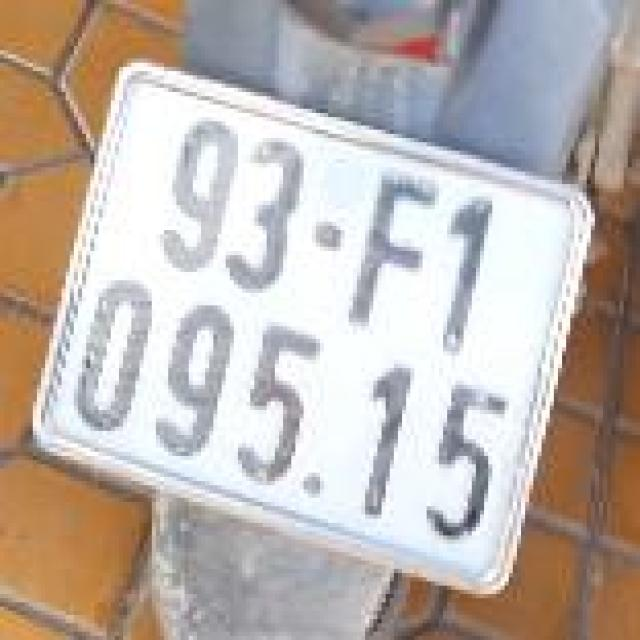0: (61, 262, 173, 449)
1: (416, 180, 523, 367), (332, 353, 436, 535)
3: (220, 125, 336, 309)
5: (220, 309, 334, 500), (407, 369, 518, 551)
9: (141, 287, 255, 475), (147, 109, 259, 284)
F: (341, 153, 460, 347)
